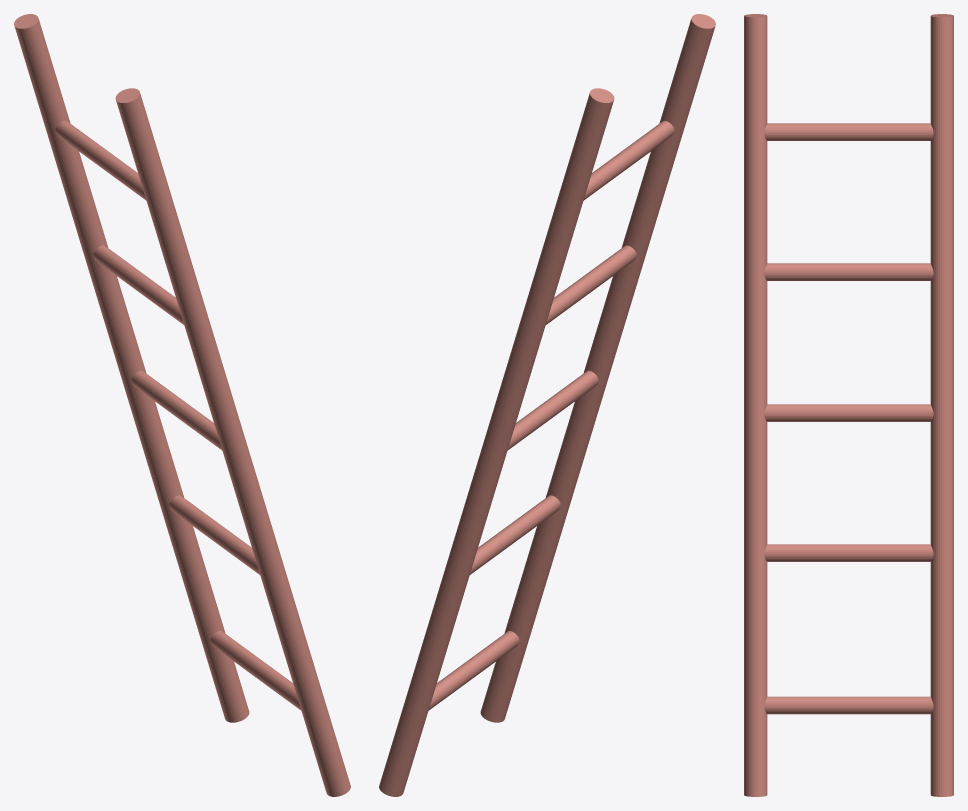
Rendered from Ladder.fbx.
3 renders of one model, left to right at view 1: azimuth 30°, elevation 25°; view 2: azimuth 150°, elevation 25°; view 3: azimuth 270°, elevation 25°, orthographic. The views are drawn at different scales.
Visible parts, largest first — view 1: Stairs; view 2: Stairs; view 3: Stairs.
Part boxes in pixels (left/top/right/bottom): Stairs: left=14, top=14, right=350, bottom=796; Stairs: left=379, top=14, right=715, bottom=796; Stairs: left=744, top=14, right=953, bottom=796.
Size of the model in its own units: 7666 by 8996 by 27866.
